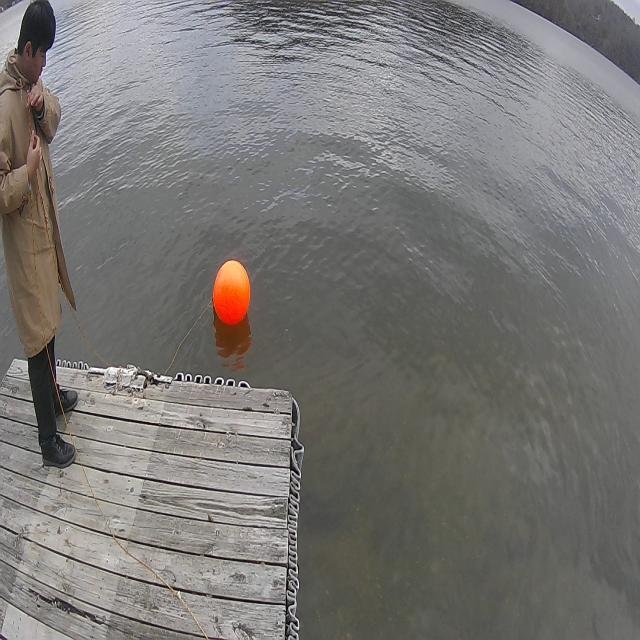Buoy: (205, 251, 256, 341)
